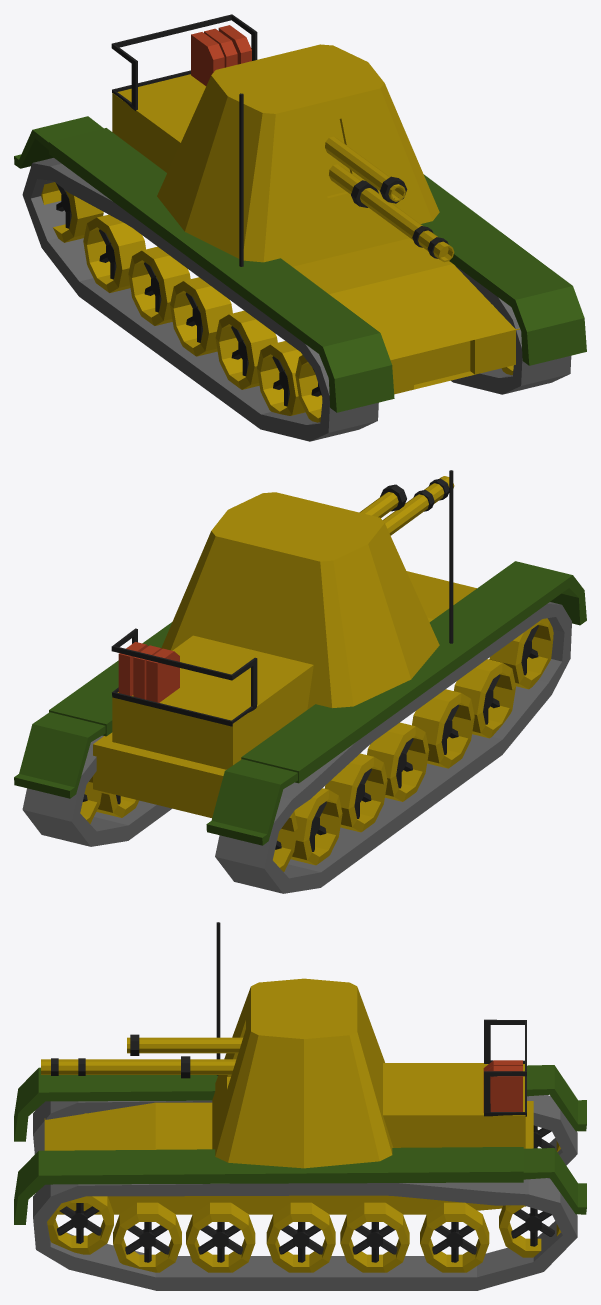
The model's file is tank_light.glb.
The picture shows the model from 3 angles, top to bottom: view 1: azimuth 30°, elevation 25°; view 2: azimuth 150°, elevation 25°; view 3: azimuth 270°, elevation 25°; orthographic projection. The views are drawn at different scales.
Parts seen in each view (by area): view 1: Light_Tank; view 2: Light_Tank; view 3: Light_Tank.
Part boxes in pixels (box(x1,y1,x2,y2)): Light_Tank: box(14, 14, 586, 441); Light_Tank: box(14, 470, 586, 893); Light_Tank: box(14, 922, 586, 1290).
Size of the model in its own units: 3.03 by 3.54 by 6.8.
